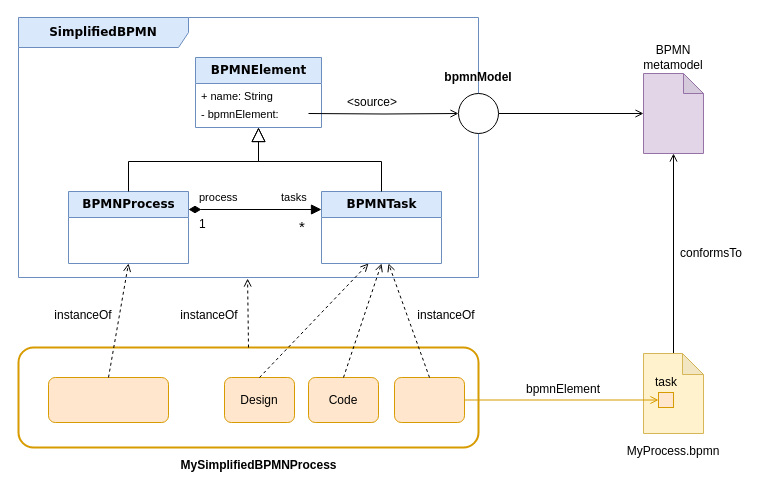
Image size: 773x493. Some labels were removed from this diagram. The shapes that lost their labels are listed below. From the top down, each one's centre as x and y in pixels, then its label:
At pixel 108 399: "MyCodingProcess".
At pixel 429 399: "Test".
